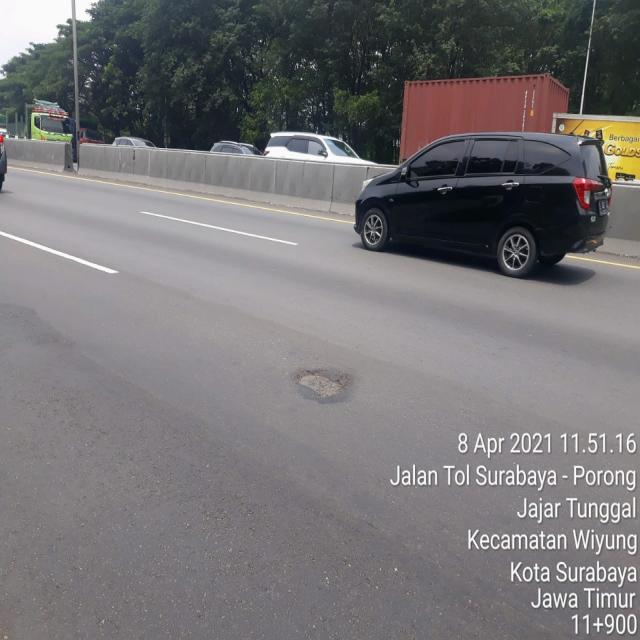Buraco: (290, 367, 356, 401)
